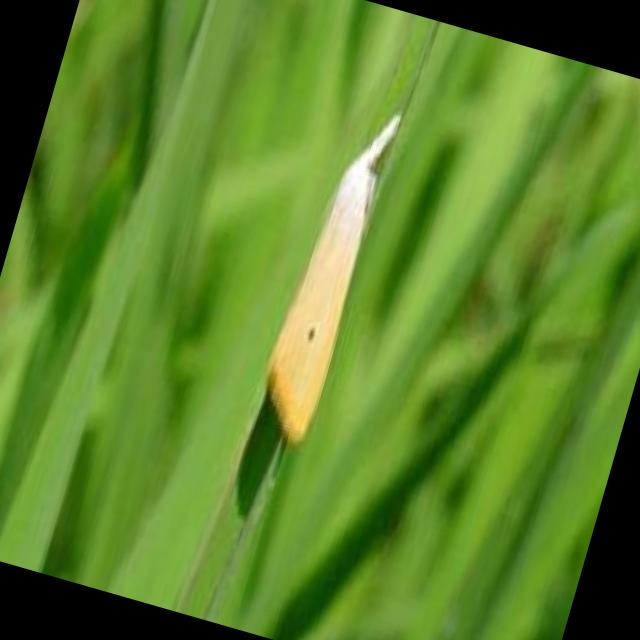stem-borer: (247, 93, 410, 456)
